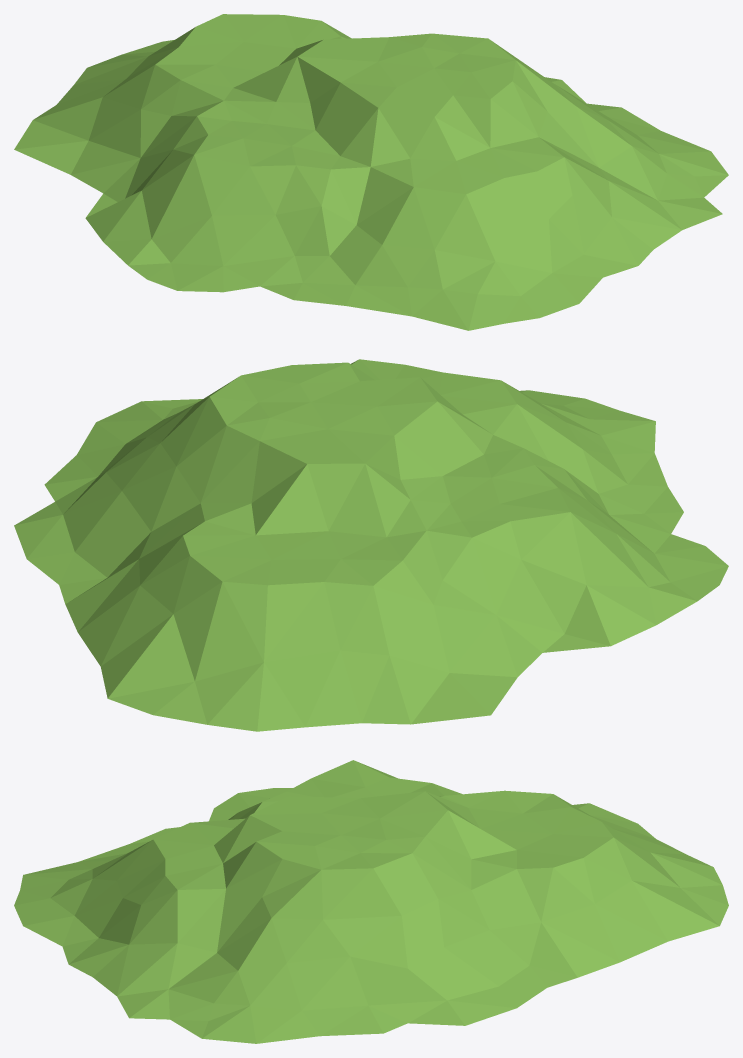
File: MT_Mountain_M_b_17.fbx
3 renders of one model, top to bottom at view 1: azimuth 30°, elevation 25°; view 2: azimuth 150°, elevation 25°; view 3: azimuth 270°, elevation 25°, orthographic. The views are drawn at different scales.
Parts seen in each view (by area): view 1: MT_Mountain_M_b_17; view 2: MT_Mountain_M_b_17; view 3: MT_Mountain_M_b_17.
Part boxes in pixels (bbox=[...]): MT_Mountain_M_b_17: bbox=[14, 14, 728, 330]; MT_Mountain_M_b_17: bbox=[14, 359, 728, 731]; MT_Mountain_M_b_17: bbox=[14, 760, 728, 1043].
Bounding box in the file's own units: 3906 × 731 × 4609.
